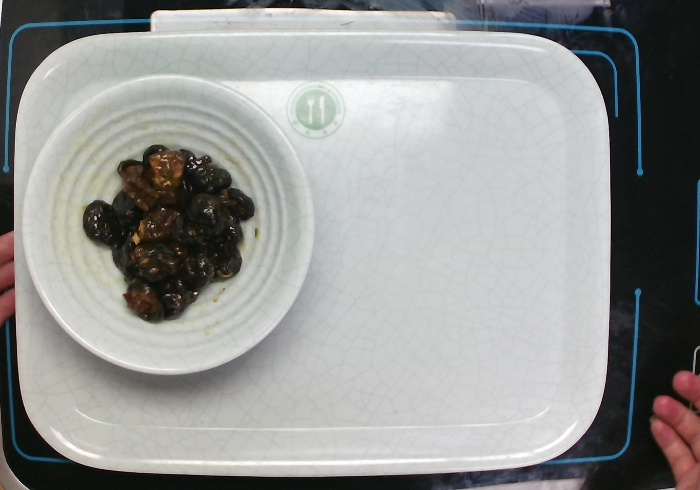JYsf-Xiao_Tang_Wan: (17, 70, 321, 385)
